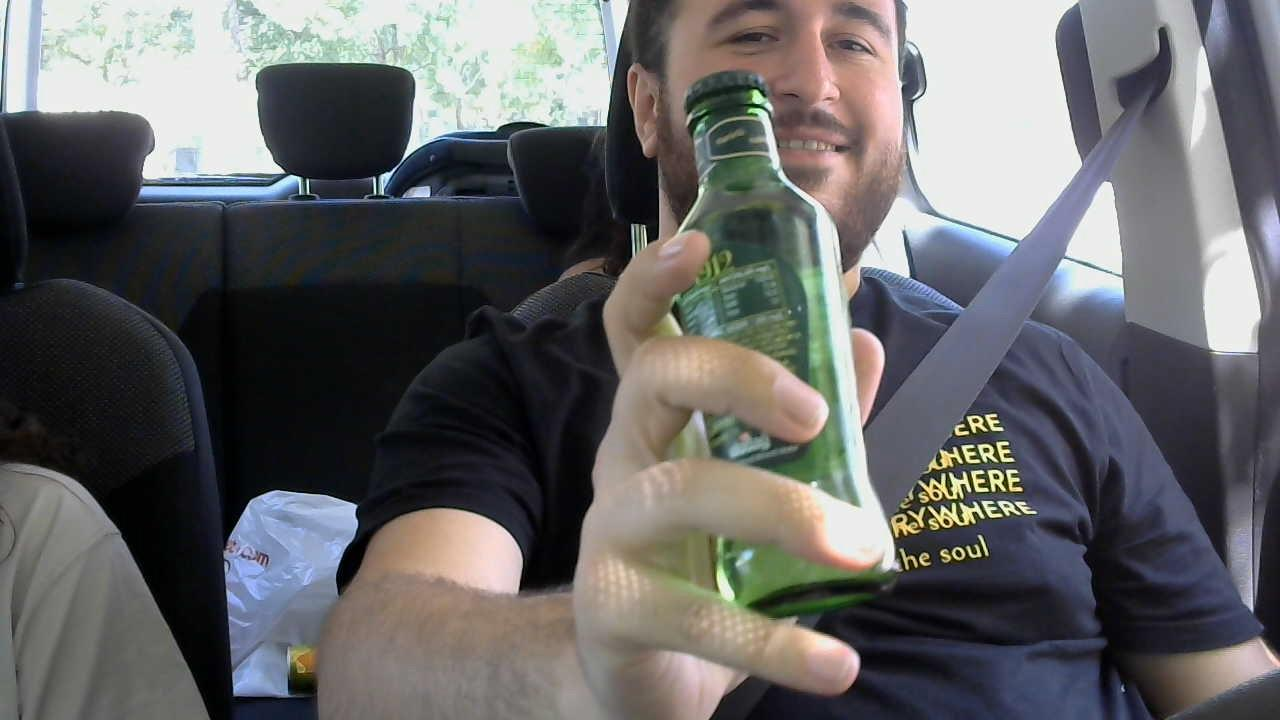Drinking: (596, 0, 902, 601)
